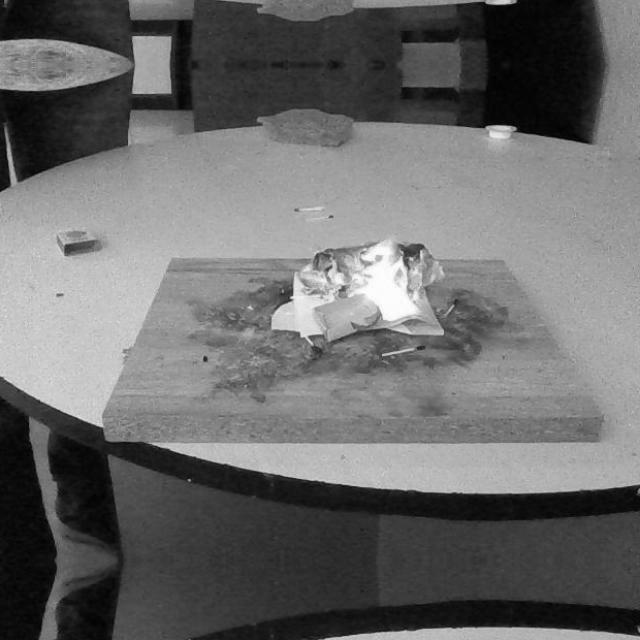smoke: (358, 254, 418, 326)
